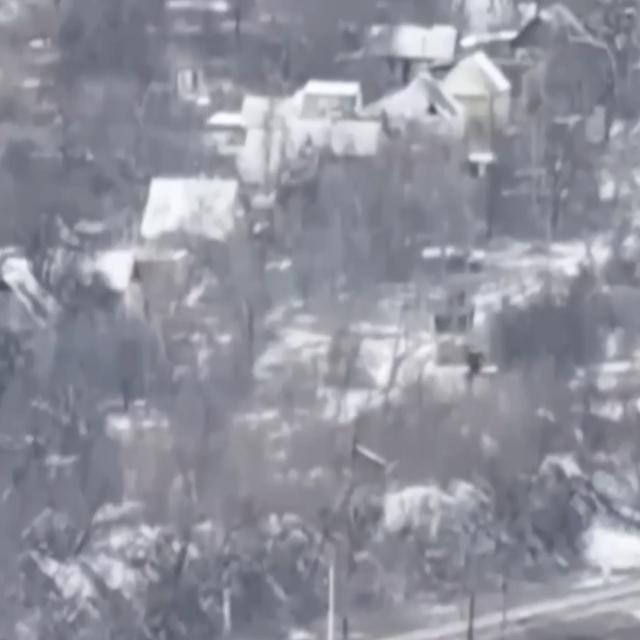vehicle: (433, 288, 473, 332)
